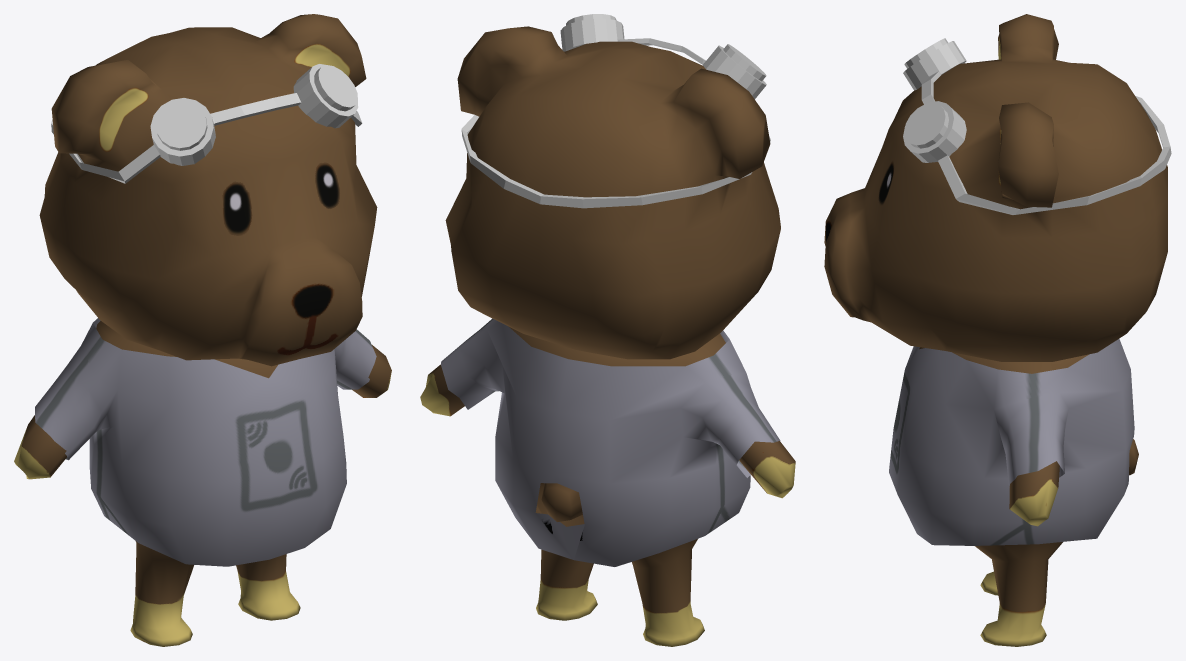
The model's file is bear_explorer.fbx.
The picture shows the model from 3 angles, left to right: view 1: azimuth 30°, elevation 25°; view 2: azimuth 150°, elevation 25°; view 3: azimuth 270°, elevation 25°; orthographic projection. The views are drawn at different scales.
Visible parts, largest first — view 1: Body, Suit, Goggles; view 2: Body, Suit, Goggles; view 3: Body, Suit, Goggles.
Part boxes in pixels (box(x1,y1,x2,y2)): Body: box(14, 14, 391, 646); Suit: box(35, 318, 376, 566); Goggles: box(51, 64, 362, 183); Body: box(420, 26, 795, 646); Suit: box(441, 318, 780, 566); Goggles: box(461, 14, 770, 208); Body: box(824, 14, 1167, 646); Suit: box(889, 339, 1134, 545); Goggles: box(903, 38, 1171, 214).
Bounding box in the file's own units: 102 × 152 × 87.33.
